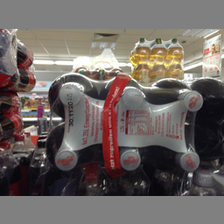soda: (47, 72, 204, 174), (130, 38, 152, 83), (166, 37, 184, 79), (150, 38, 168, 77)
